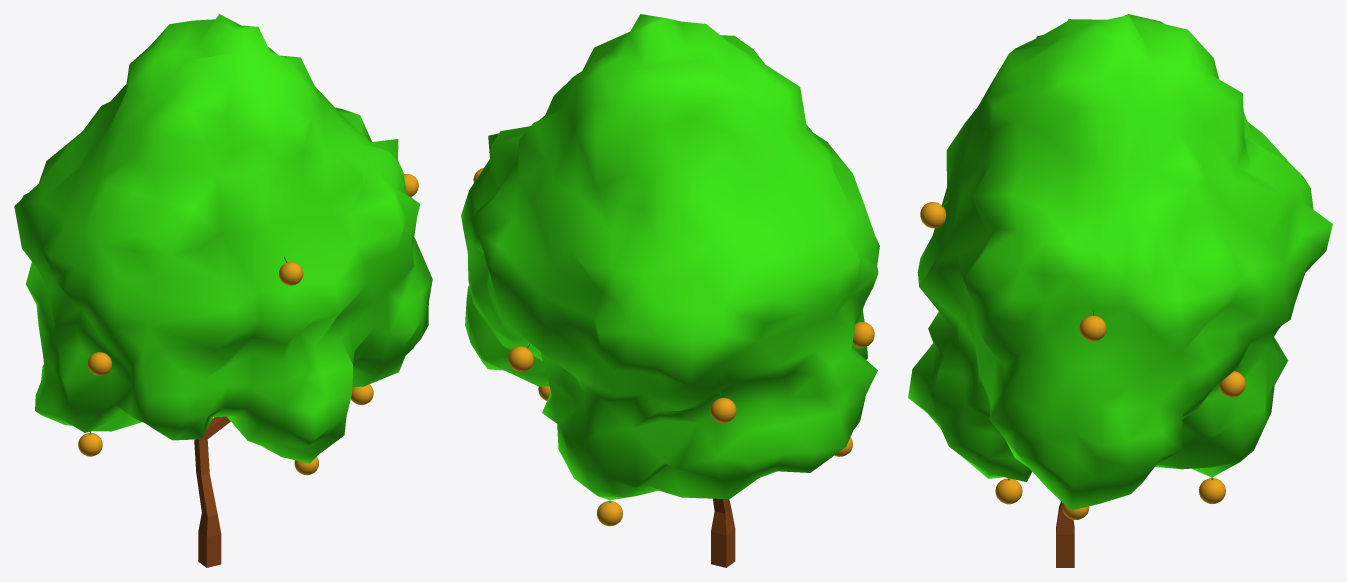
File: SM_OrangeTree_002_LOD1.fbx
3 views of the same model, side by side, from view 1: azimuth 30°, elevation 25°; view 2: azimuth 150°, elevation 25°; view 3: azimuth 270°, elevation 25° (orthographic). The views are drawn at different scales.
Parts seen in each view (by area): view 1: OrangeTree_02; view 2: OrangeTree_02; view 3: OrangeTree_02.
Part boxes in pixels (<box>): OrangeTree_02: <box>14,14,432,567</box>; OrangeTree_02: <box>461,14,879,567</box>; OrangeTree_02: <box>908,14,1332,567</box>.
Size of the model in its own units: 361 by 485 by 328.
